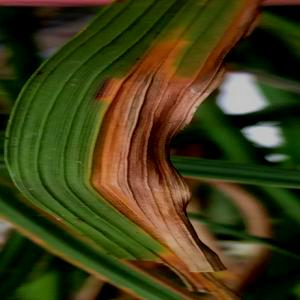2 BacterialBlight: (34, 3, 191, 261)
